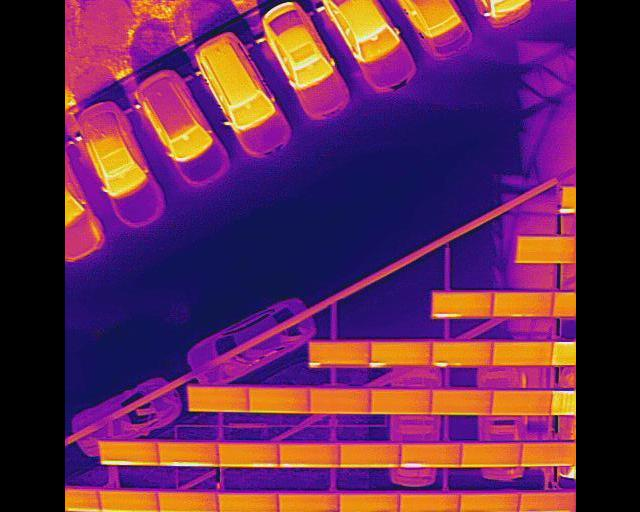No-Anomaly: (517, 236, 576, 265), (247, 386, 308, 414), (188, 386, 249, 413), (309, 388, 370, 415), (216, 442, 279, 468), (492, 291, 552, 318), (279, 443, 339, 469), (368, 390, 431, 414), (430, 391, 491, 415), (339, 444, 399, 468), (491, 343, 551, 366), (492, 391, 549, 415), (461, 443, 520, 465), (520, 443, 576, 466), (99, 492, 159, 512), (155, 493, 218, 512), (216, 494, 279, 512)
Unclassified: (309, 340, 370, 368), (431, 291, 491, 318), (431, 341, 491, 368), (158, 441, 219, 467), (370, 341, 431, 367), (99, 441, 160, 466), (399, 444, 459, 467), (399, 493, 459, 512), (277, 494, 339, 512), (518, 493, 575, 512), (339, 494, 399, 512), (458, 494, 518, 512)
